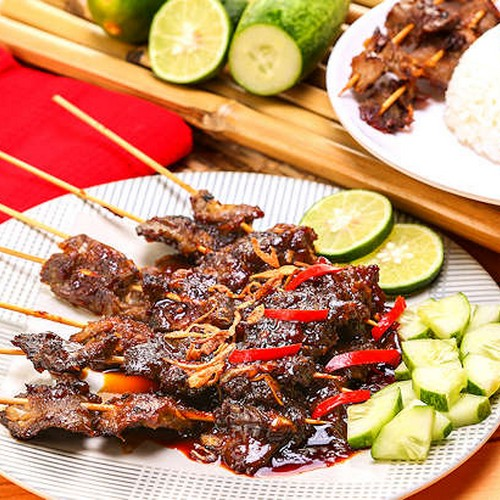sate plecing: (31, 231, 365, 352), (25, 322, 330, 409), (15, 376, 287, 459)
